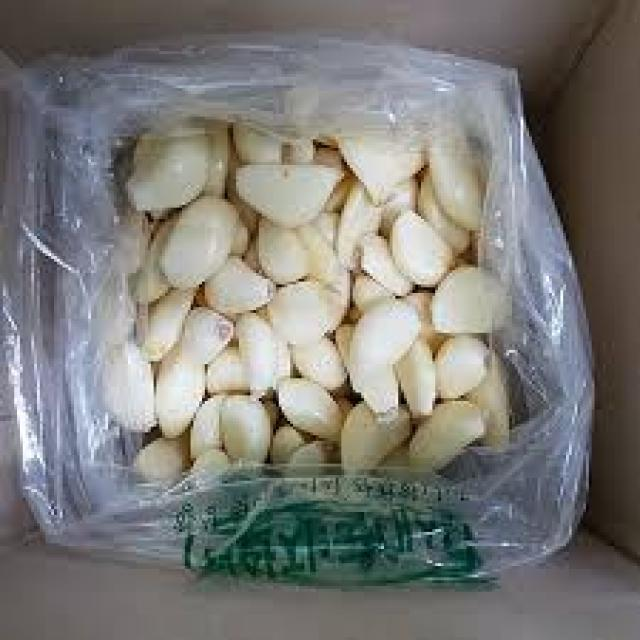garlic: (245, 248, 472, 450), (230, 145, 450, 316), (209, 236, 422, 404), (114, 140, 321, 302), (128, 282, 313, 452)
